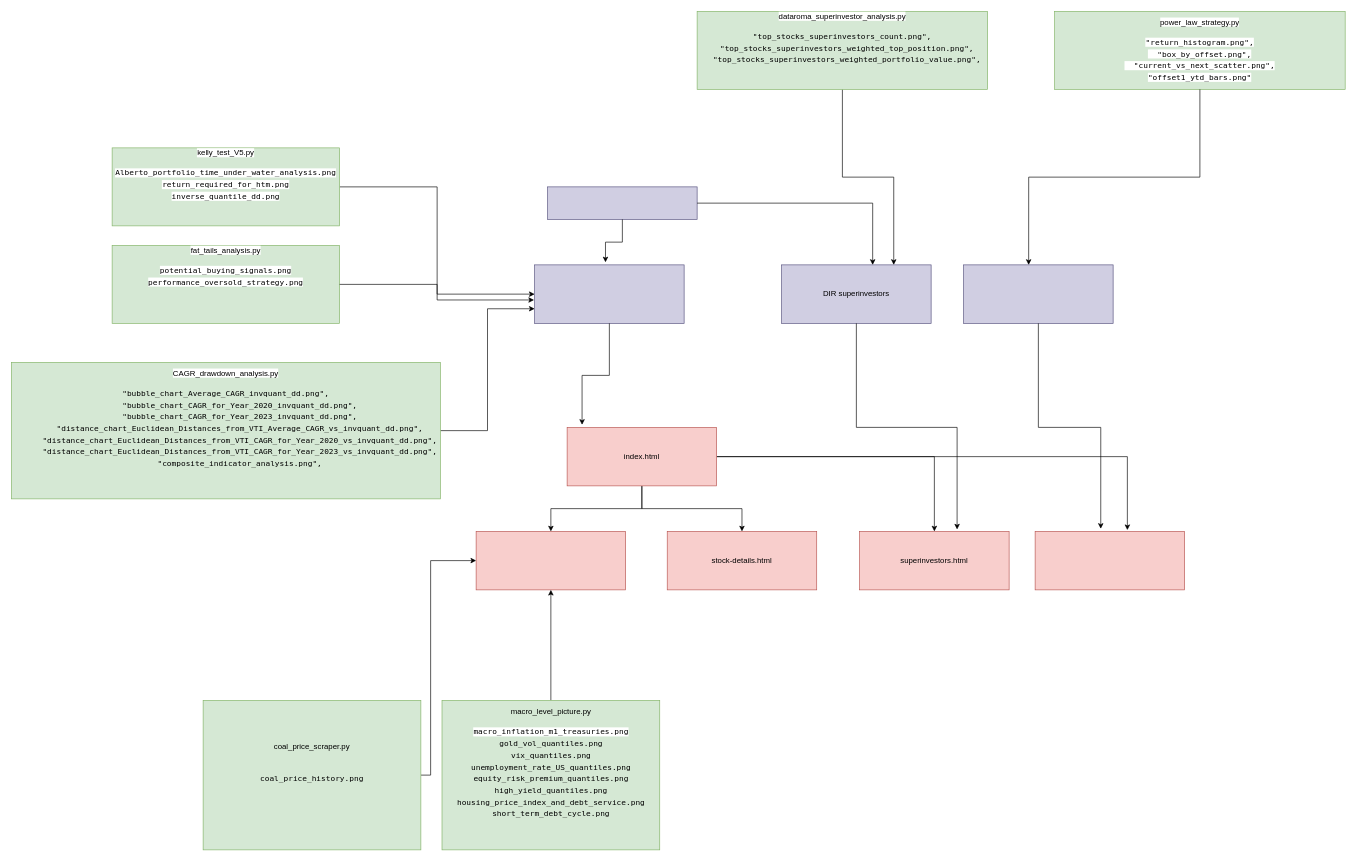
This 1357x861 diagram has some shape labels left out. Each missing label, with the centre of its shape:
"DIR images" goes at pixel 622 202.
"DIR portfolio_performance" goes at pixel 609 293.
"DIR power_law" goes at pixel 1038 293.
"macro.html" goes at pixel 550 560.
"power_law.html" goes at pixel 1109 560.
